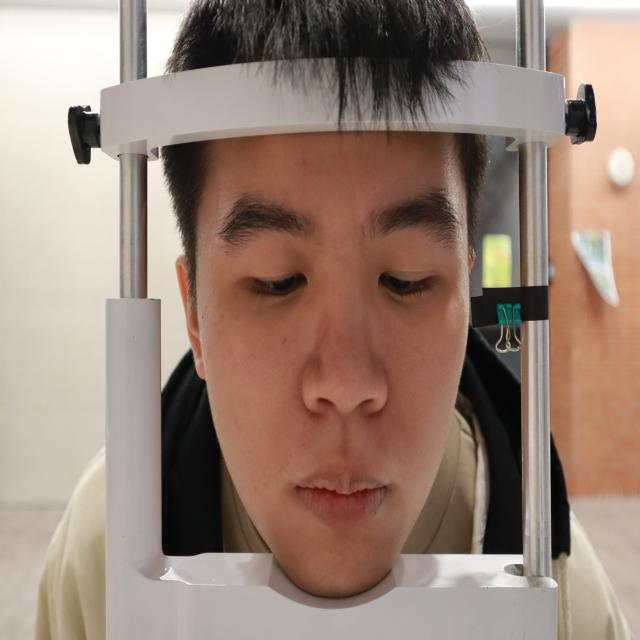eye: (236, 258, 312, 306), (378, 261, 441, 306)
gaze: (271, 272, 295, 292), (392, 272, 412, 294)
